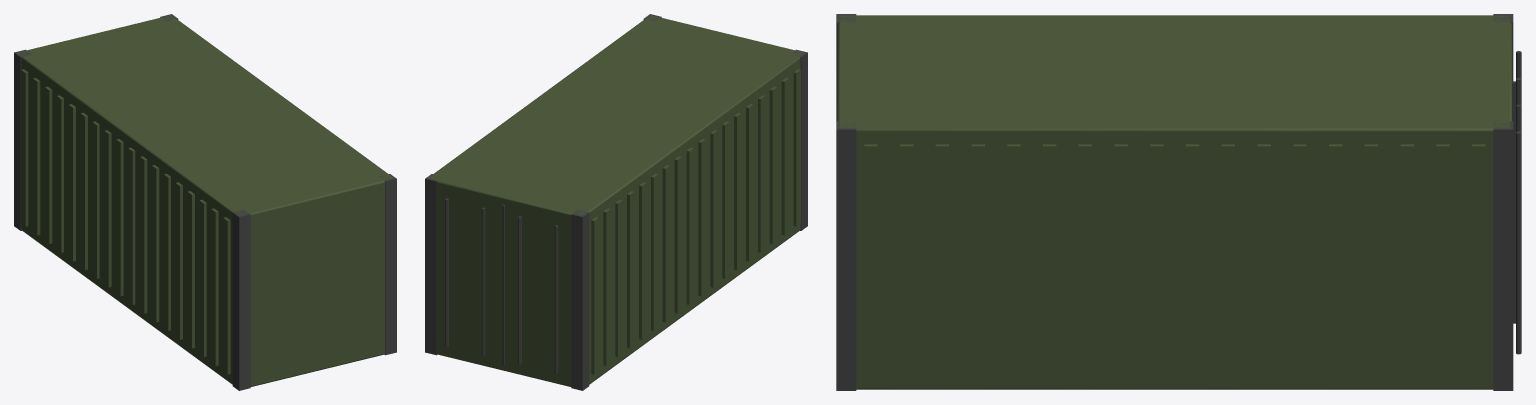
File: Prop_Container_Olive.fbx
The picture shows the model from 3 angles, left to right: view 1: azimuth 30°, elevation 25°; view 2: azimuth 150°, elevation 25°; view 3: azimuth 270°, elevation 25°; orthographic projection. The views are drawn at different scales.
Parts seen in each view (by area): view 1: Prop_Container_Olive_Mesh; view 2: Prop_Container_Olive_Mesh; view 3: Prop_Container_Olive_Mesh.
Boxes of the visible parts, x1=… form: Prop_Container_Olive_Mesh: x1=14, y1=14, x2=396, y2=390; Prop_Container_Olive_Mesh: x1=425, y1=14, x2=807, y2=390; Prop_Container_Olive_Mesh: x1=836, y1=14, x2=1521, y2=390.
Bounding box in the file's own units: 2.53 × 2.59 × 6.15.
